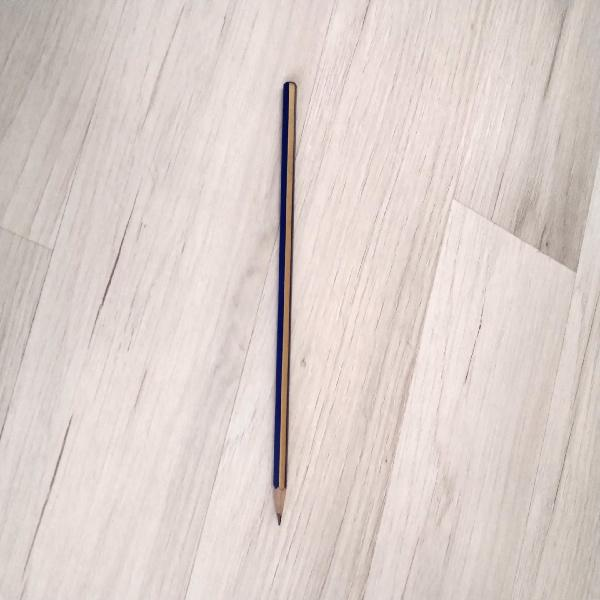pencil: (273, 82, 295, 524)
